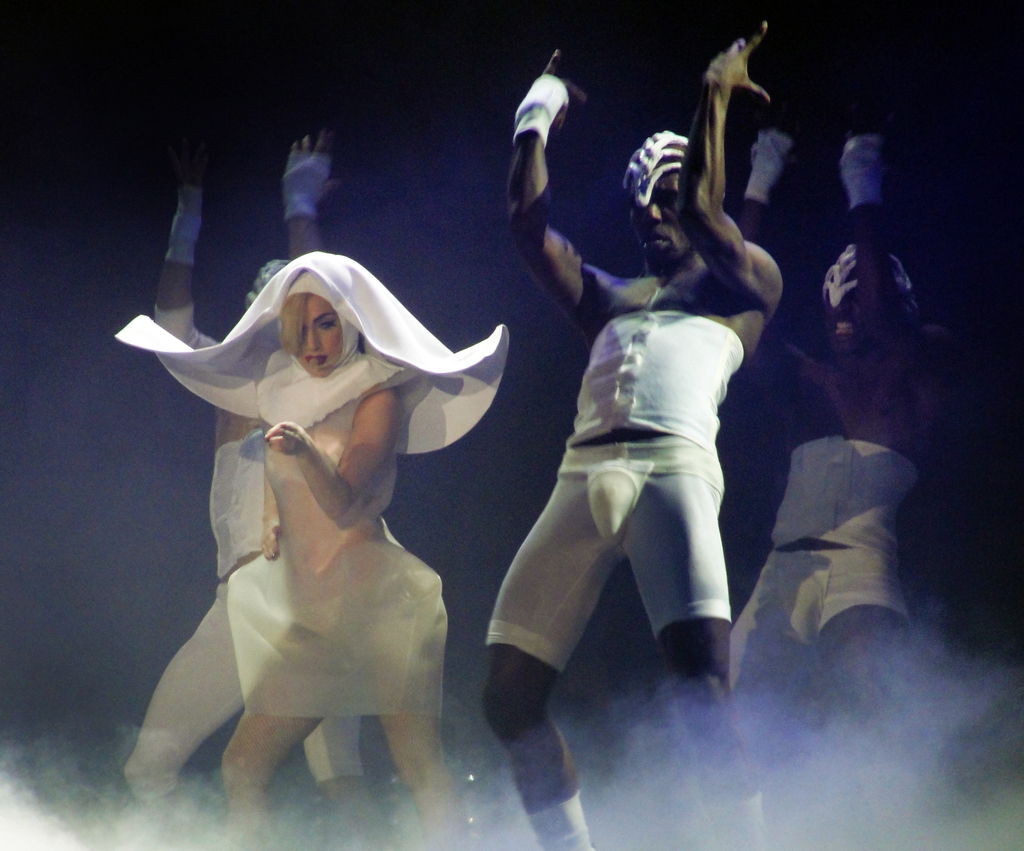Human_hand: (704, 21, 778, 113), (524, 50, 591, 133), (280, 132, 344, 207), (838, 133, 889, 186), (751, 126, 794, 182), (166, 143, 212, 195), (259, 420, 309, 461), (258, 509, 284, 561)
